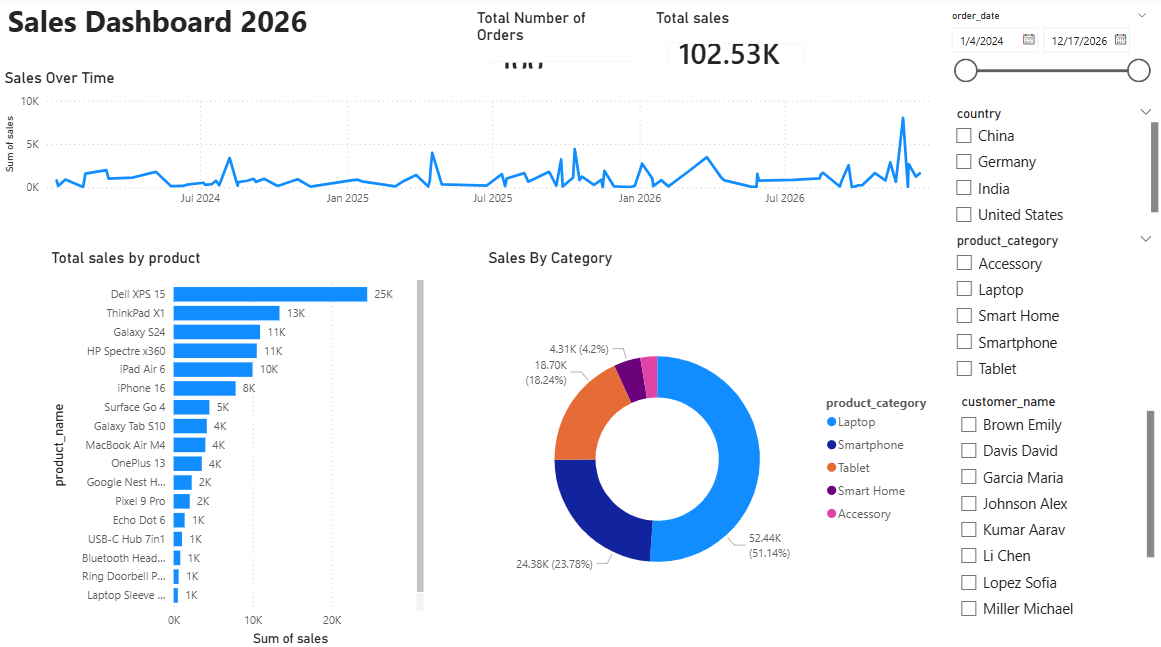

The page's visual inventory and layout, read from the dashboard file:
{"tool":"powerbi","page":{"name":"Page 1","canvas":[1280,720],"ordinal":0},"visuals":[{"type":"barChart","title":"Total sales by product","fields":{"Category":["orders.product_name"],"Y":["Sum(orders.sales)"]},"box":[52,278,420,442],"z":0},{"type":"donutChart","title":"Sales By Category","fields":{"Category":["orders.product_category"],"Y":["Sum(orders.sales)"]},"box":[532,278,508,442],"z":1000},{"type":"cardVisual","title":"Total Number of Orders","fields":{"Data":["CountNonNull(orders.order_id)"]},"box":[520,15,197.5,95],"z":2000},{"type":"slicer","fields":{"Values":["customers.country"]},"box":[1040,116,240,140],"z":3000},{"type":"cardVisual","title":"Total sales","fields":{"Data":["Sum(orders.sales)"]},"box":[717.5,15,185,95],"z":4000},{"type":"lineChart","title":"Sales Over Time","fields":{"Category":["orders.order_date"],"Y":["Sum(orders.sales)"]},"box":[0,80,1040,162],"z":5000},{"type":"slicer","fields":{"Values":["customers.customer_name"]},"box":[1046,434,230,266],"z":6000},{"type":"slicer","fields":{"Values":["orders.product_category"]},"box":[1040,256,240,178],"z":7000},{"type":"slicer","fields":{"Values":["orders.order_date"]},"box":[1036,10,240,104],"z":8000},{"type":"textbox","box":[4,0,362,58],"z":9000}]}

Visuals, with their boxes in screenshot pixels (x1, y1, x2, y2), scaled from the page's 1280x720 canvas onto the 1161x647 screenshot:
"Total sales by product" barChart: box=[47, 250, 428, 646]
"Sales By Category" donutChart: box=[483, 250, 943, 646]
"Total Number of Orders" cardVisual: box=[472, 13, 651, 99]
slicer - customers.country: box=[943, 104, 1160, 230]
"Total sales" cardVisual: box=[651, 13, 819, 99]
"Sales Over Time" lineChart: box=[0, 72, 943, 217]
slicer - customers.customer_name: box=[949, 390, 1157, 629]
slicer - orders.product_category: box=[943, 230, 1160, 390]
slicer - orders.order_date: box=[940, 9, 1157, 102]
textbox: box=[4, 0, 332, 52]
